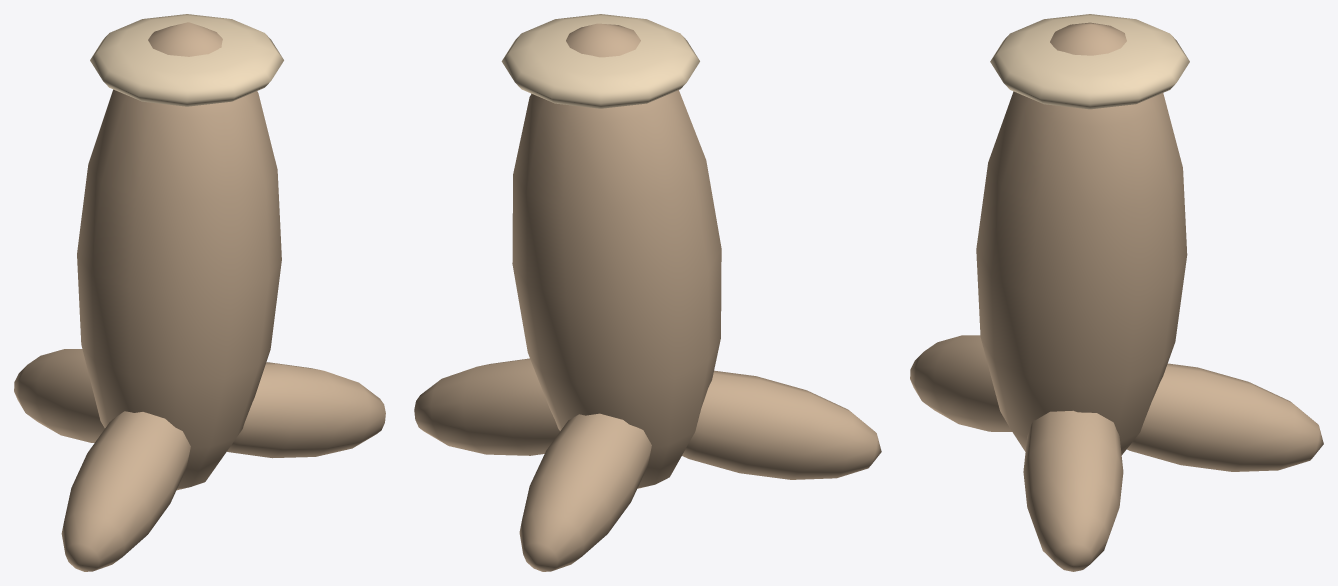
File: tree-stump.glb
The picture shows the model from 3 angles, left to right: view 1: azimuth 30°, elevation 25°; view 2: azimuth 150°, elevation 25°; view 3: azimuth 270°, elevation 25°; orthographic projection. The views are drawn at different scales.
Parts seen in each view (by area): view 1: Tapering trunk.001, Root.005, Cut surface, Root.003, Root.004; view 2: Tapering trunk.001, Root.005, Root.004, Cut surface, Root.003; view 3: Tapering trunk.001, Root.004, Root.003, Cut surface, Root.005.
Boxes of the visible parts, <box> form: Tapering trunk.001: <box>77,22,281,490</box>; Root.005: <box>61,411,190,571</box>; Cut surface: <box>90,14,283,106</box>; Root.003: <box>227,362,385,458</box>; Root.004: <box>14,349,104,442</box>; Tapering trunk.001: <box>512,23,721,488</box>; Root.005: <box>682,370,881,479</box>; Root.004: <box>519,413,651,571</box>; Cut surface: <box>501,14,699,108</box>; Root.003: <box>414,358,559,455</box>; Tapering trunk.001: <box>976,22,1187,455</box>; Root.004: <box>1127,363,1323,471</box>; Root.003: <box>1023,410,1123,571</box>; Cut surface: <box>990,14,1189,109</box>; Root.005: <box>910,335,1011,431</box>.
Size of the model in its own units: 0.8215 by 0.9316 by 0.7448.
